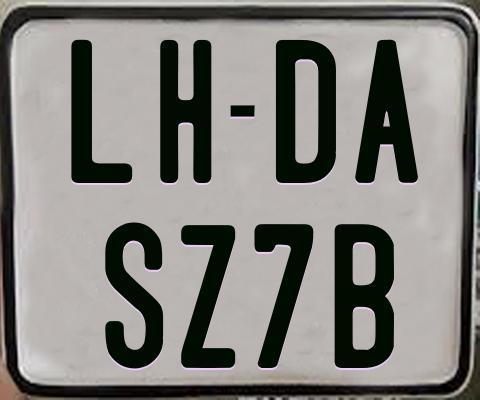7: (252, 222, 313, 367)
A: (354, 37, 419, 181)
B: (333, 224, 396, 372)
D: (276, 37, 339, 182)
H: (158, 39, 216, 182)
L: (68, 37, 133, 184)
S: (103, 219, 165, 369)
Z: (181, 224, 239, 373)
